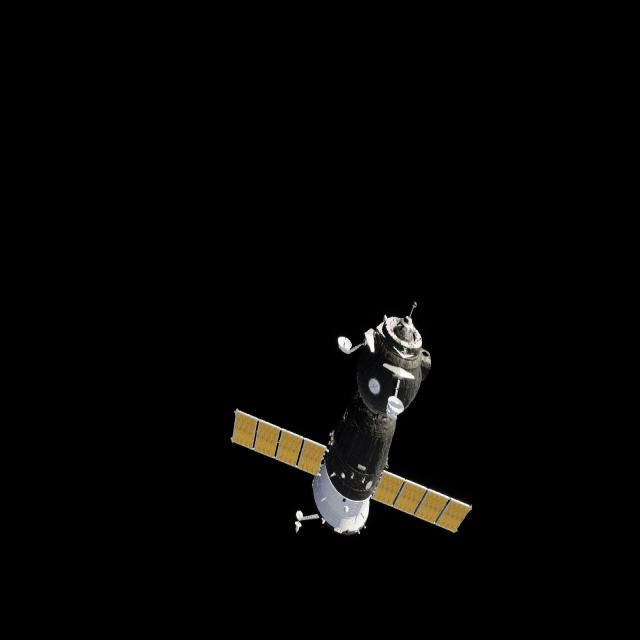Satellites revolving around earth: (228, 299, 474, 541)
